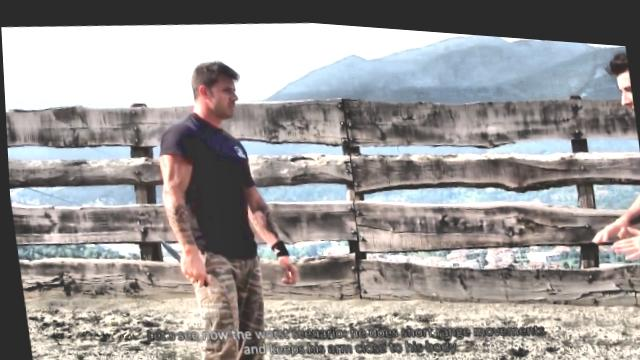knife: (148, 225, 213, 292)
